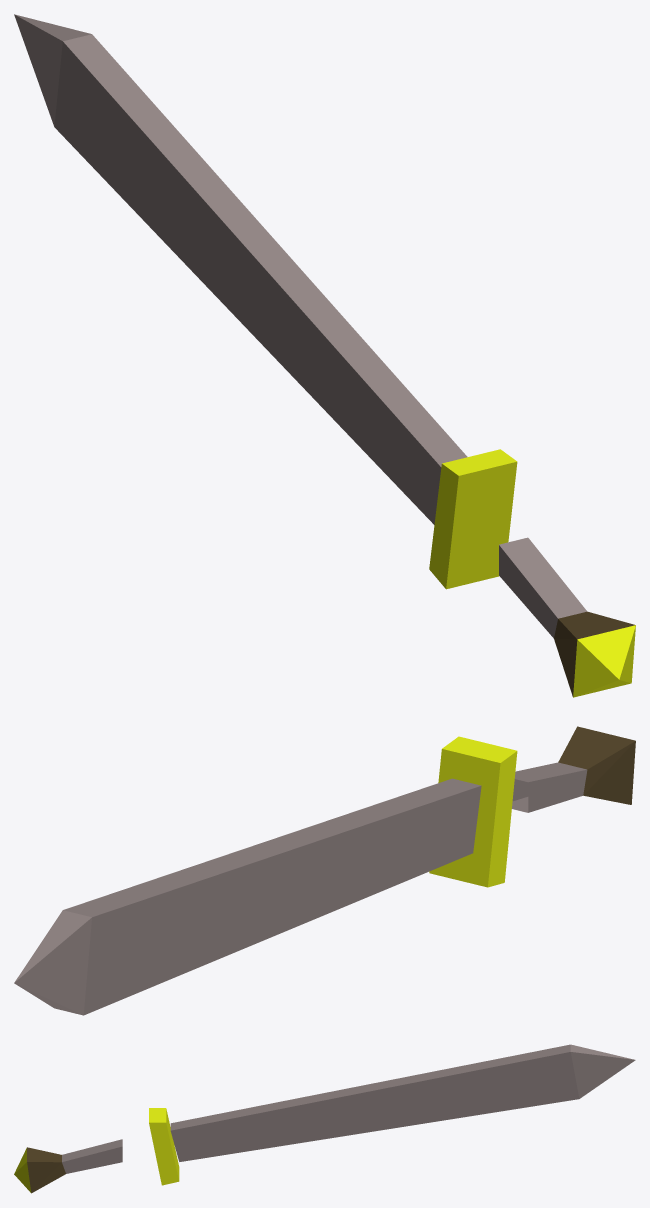
The model's file is npc_world_white_knight_6.obj.
3 views of the same model, one above another, from view 1: azimuth 30°, elevation 25°; view 2: azimuth 150°, elevation 25°; view 3: azimuth 270°, elevation 25° (orthographic). The views are drawn at different scales.
Bounding box in the file's own units: 0.0625 × 0.2734 × 1.12.
